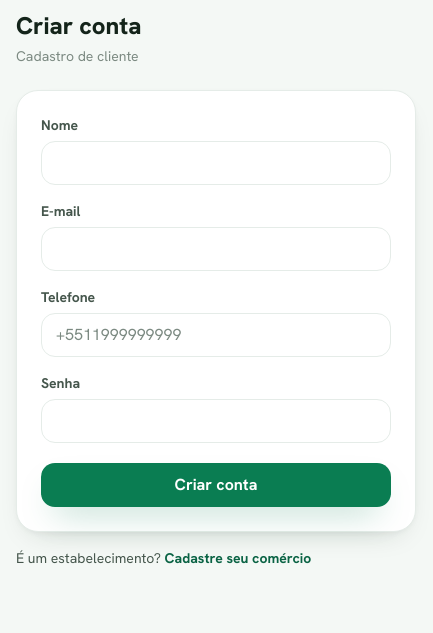
it: Cadastro de cliente › e-mail já cadastrado mostra mensagem de erro
Type "Cliente Demo" into the field labelled "Nome". click: (216, 163)
box: [41,141,391,185]
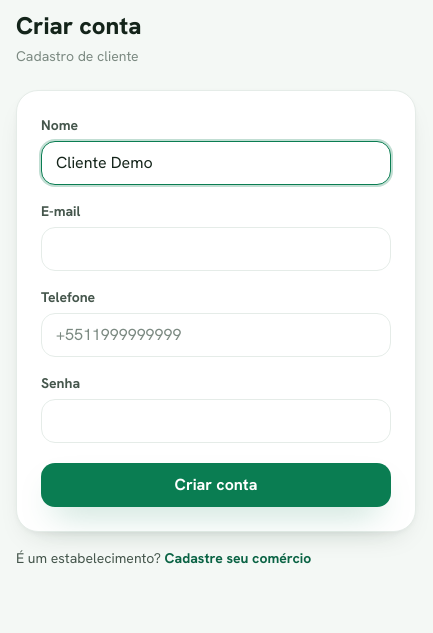
Type "cliente@foodloop.dev" into the field labelled "E-mail". click: (216, 249)
box: [41,227,391,271]
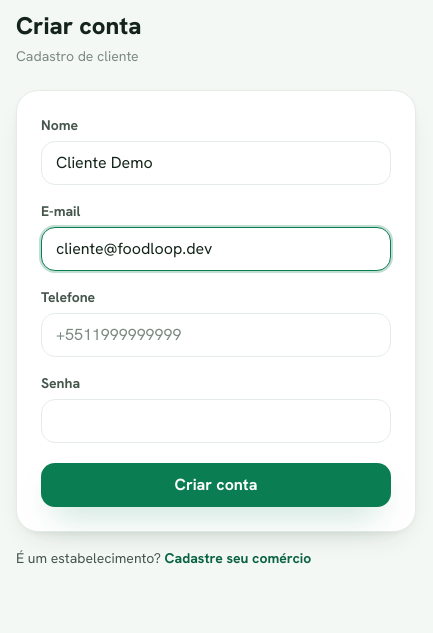
Type "+5511988887777" into the field labelled "Telefone". click: (216, 335)
box: [41,313,391,357]
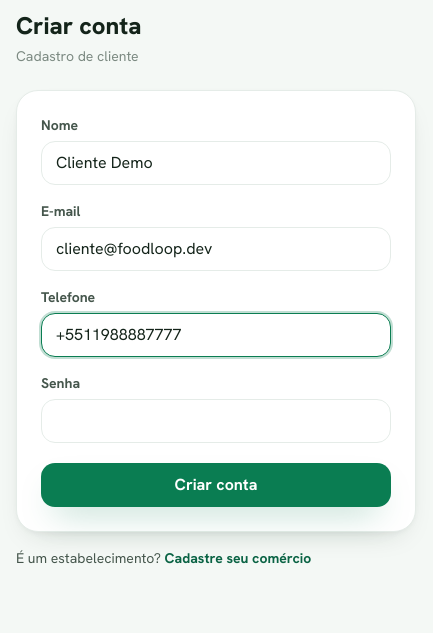
Type "senha12345" into the password field labelled "Senha". click: (216, 421)
box: [41,399,391,443]
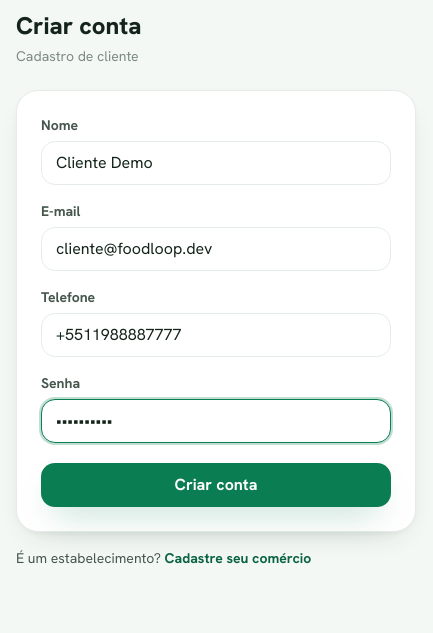
Click the button "Criar conta". click: (216, 485)
box: [41,463,391,507]
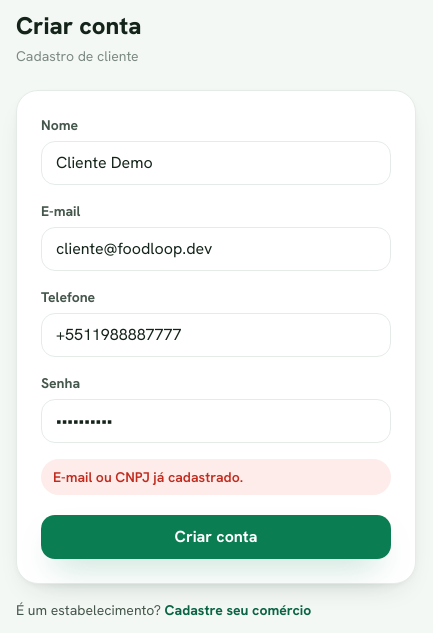
Expected: the message shows "já cadastrado", [53,468,243,486]
